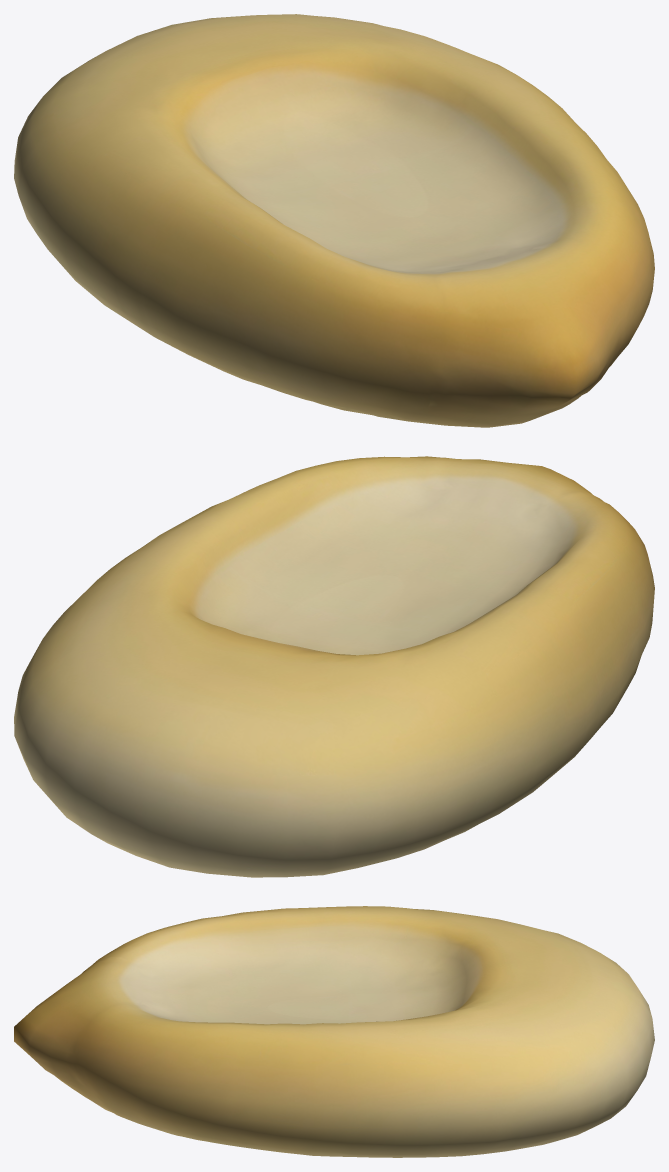
File: milho.fbx
The picture shows the model from 3 angles, top to bottom: view 1: azimuth 30°, elevation 25°; view 2: azimuth 150°, elevation 25°; view 3: azimuth 270°, elevation 25°; orthographic projection. The views are drawn at different scales.
Parts seen in each view (by area): view 1: milho; view 2: milho; view 3: milho.
Boxes of the visible parts, left/top/right/bottom form: milho: left=14, top=14, right=654, bottom=427; milho: left=14, top=456, right=654, bottom=877; milho: left=14, top=906, right=654, bottom=1157.
Size of the model in its own units: 19.31 by 7.46 by 30.03.
Materials: 1 (1 with a texture image).
